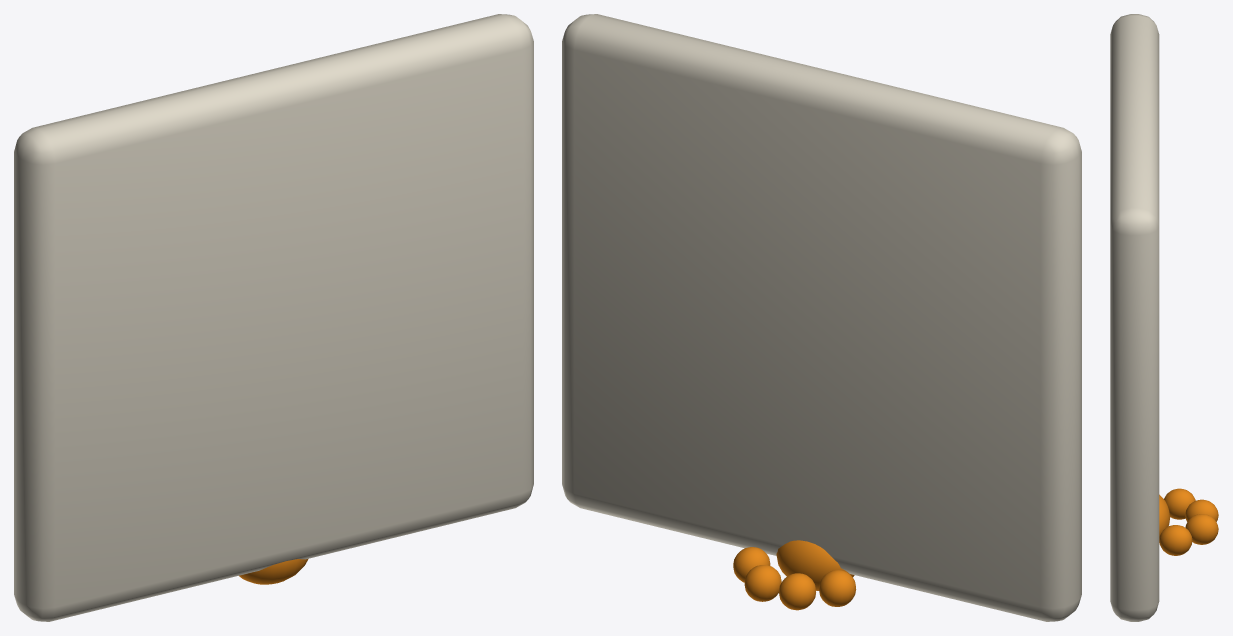
File: BellCollar_Premium.fbx
3 views of the same model, side by side, from view 1: azimuth 30°, elevation 25°; view 2: azimuth 150°, elevation 25°; view 3: azimuth 270°, elevation 25° (orthographic). The views are drawn at different scales.
Visible parts, largest first — view 1: BellCollar_Body; view 2: BellCollar_Body; view 3: BellCollar_Body.
Part boxes in pixels (box(x1,y1,x2,y2)): BellCollar_Body: box(14, 14, 533, 621); BellCollar_Body: box(562, 14, 1081, 621); BellCollar_Body: box(1110, 14, 1218, 621).
Size of the model in its own units: 0.4451 by 0.4268 by 0.0973.
